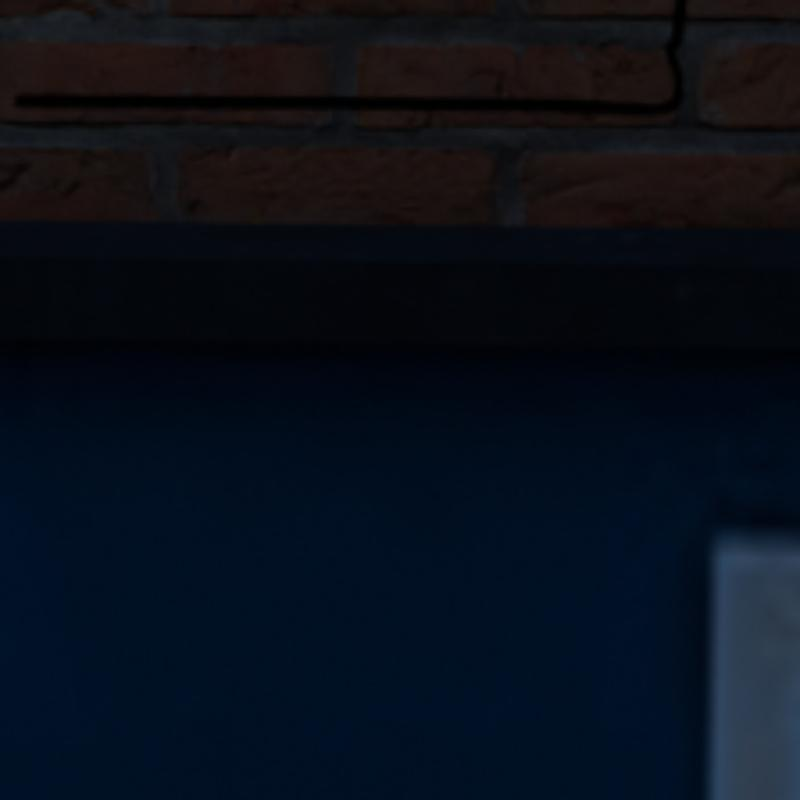crack: (21, 0, 682, 114)
